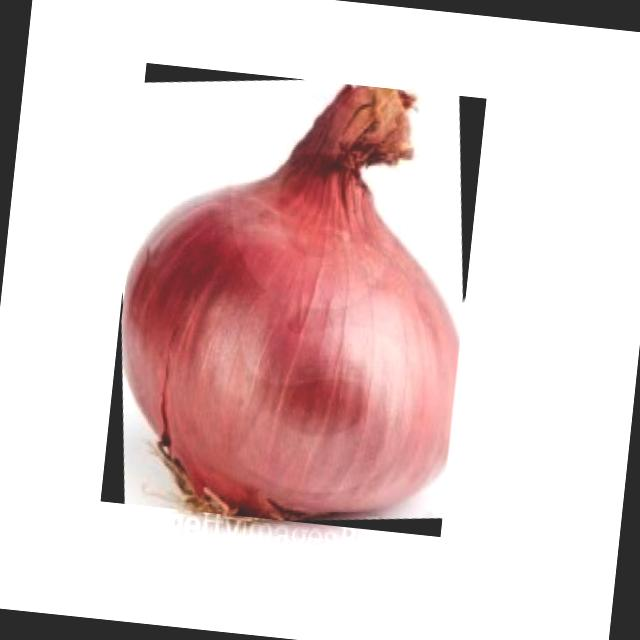healthy: (122, 84, 458, 520)
